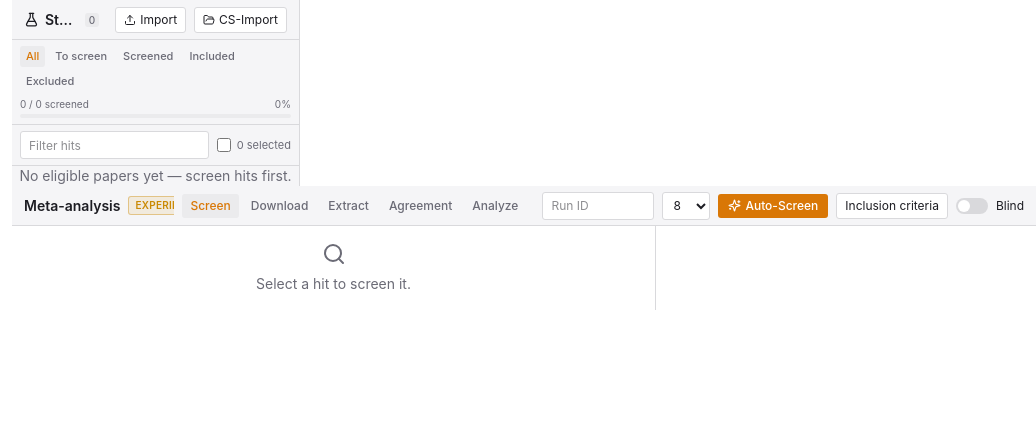
MetaView conflicts tab › passes the active screening stage and renders llm_excluded
This screenshot has width=1036, height=440.
Click the button "Agreement". click: click(421, 206)
box: x1=381 y1=194 x2=460 y2=218
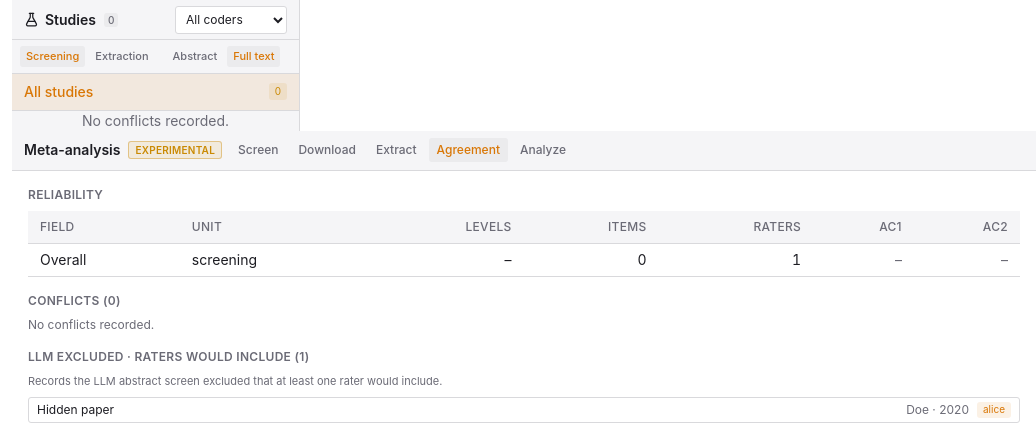
Now the text "Hidden paper" is shown, box x1=37 y1=402 x2=114 y2=417
Now the text "LLM excluded · raters would include" is shown, box x1=28 y1=348 x2=291 y2=364
